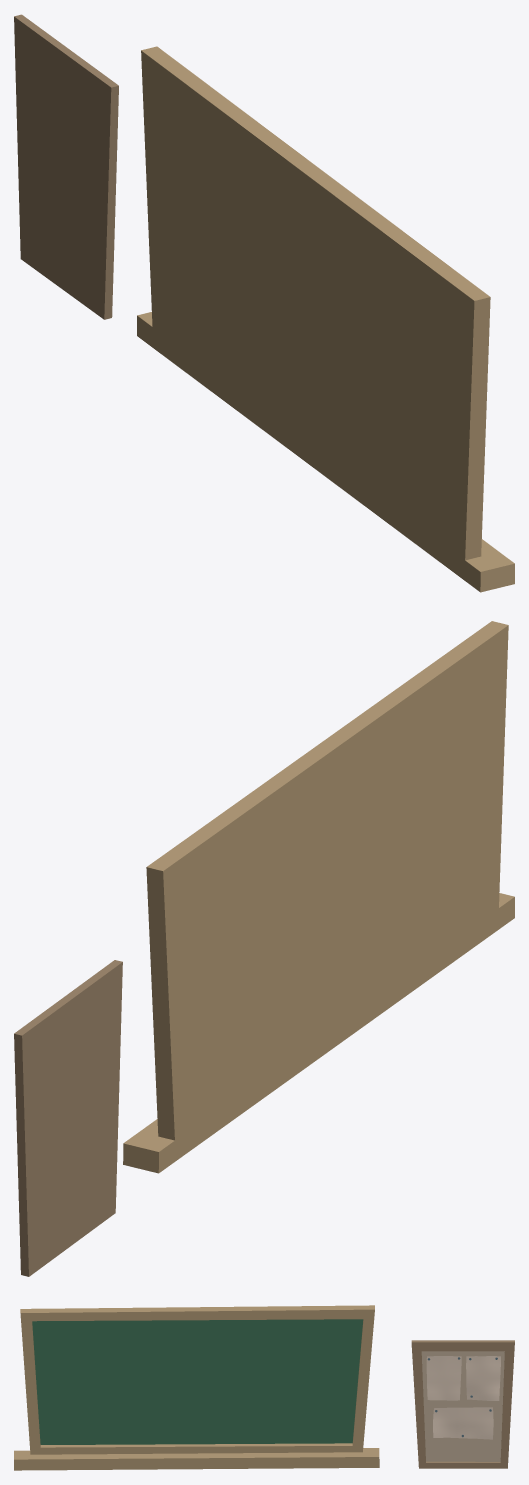
File: boards_v01.fbx
The picture shows the model from 3 angles, top to bottom: view 1: azimuth 30°, elevation 25°; view 2: azimuth 150°, elevation 25°; view 3: azimuth 270°, elevation 25°; orthographic projection. The views are drawn at different scales.
Parts seen in each view (by area): view 1: pasted__tableau, pasted__pCylinder7; view 2: pasted__tableau, pasted__pCylinder7; view 3: pasted__tableau, pasted__pCylinder7.
Boxes of the visible parts, bbox=[...] form: pasted__tableau: bbox=[137, 46, 514, 592]; pasted__pCylinder7: bbox=[14, 14, 118, 319]; pasted__tableau: bbox=[123, 621, 514, 1173]; pasted__pCylinder7: bbox=[14, 960, 122, 1276]; pasted__tableau: bbox=[14, 1305, 379, 1470]; pasted__pCylinder7: bbox=[411, 1340, 514, 1468].
Size of the model in its own units: 30.69 by 257 by 728.
